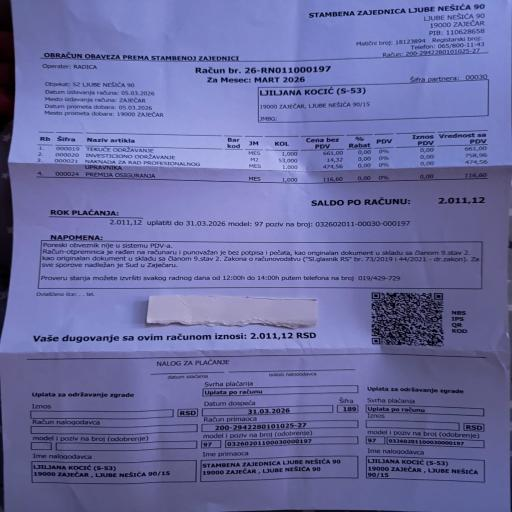stambena_zajednica: (83, 131, 493, 183)
stambena_zajednica_iznos: (25, 331, 333, 349)
